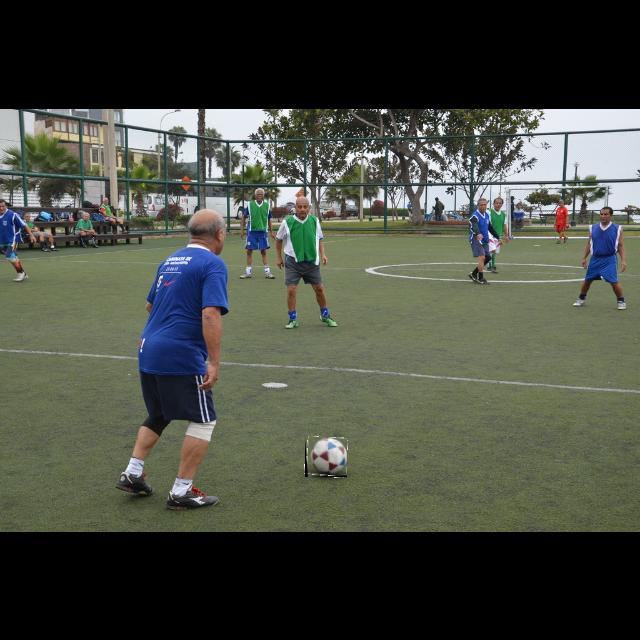Football: (305, 437, 347, 477)
